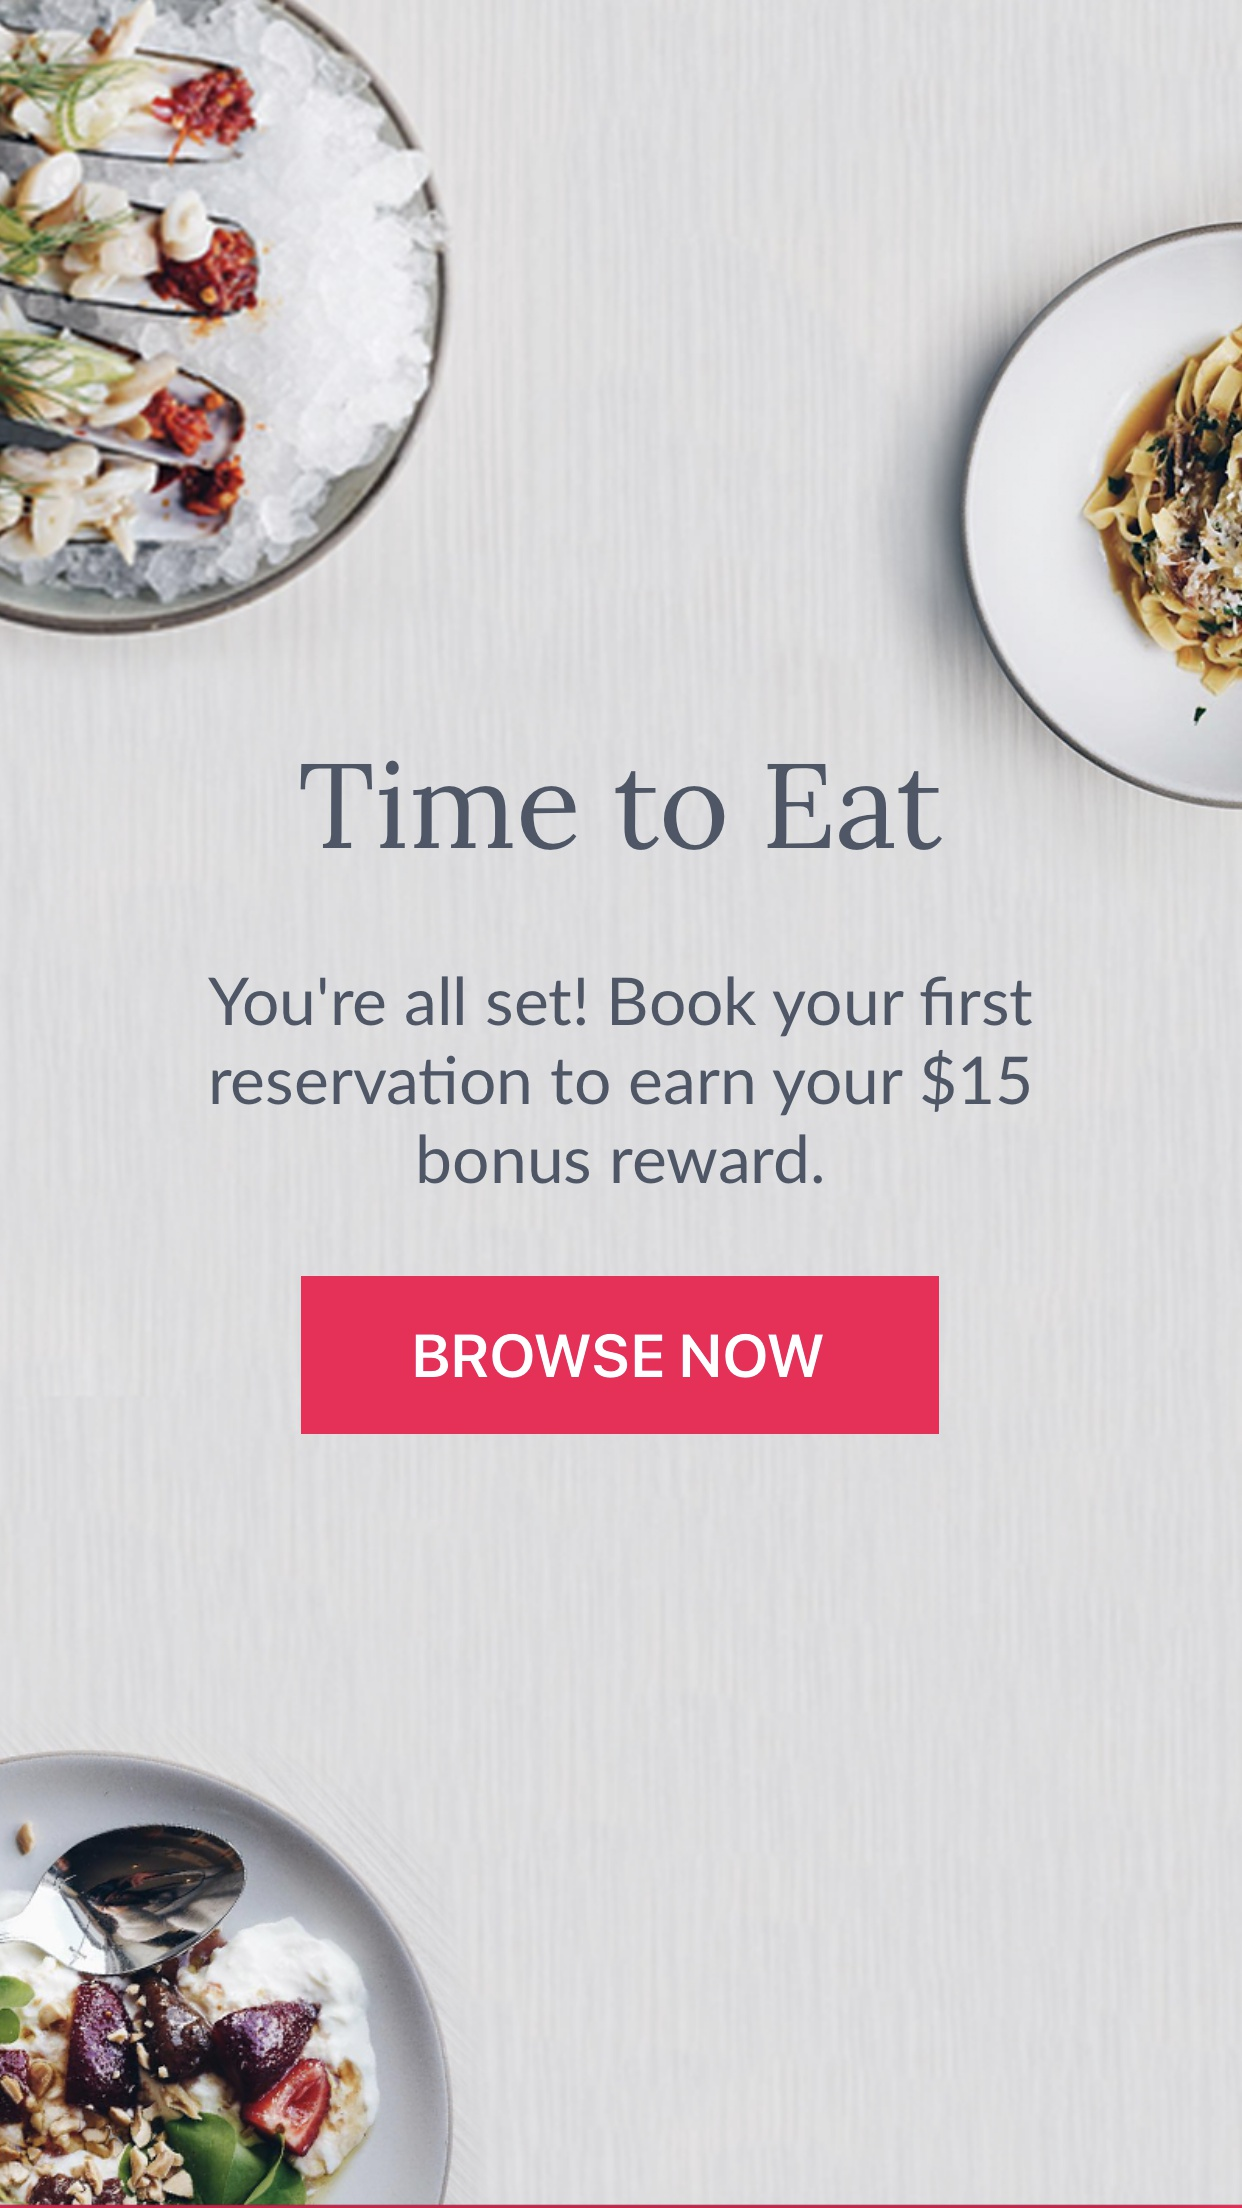BackgroundImage: (2, 2, 1242, 2208)
Image: (2, 2, 453, 638), (2, 1747, 455, 2208), (955, 221, 1242, 811)
Text: (208, 975, 1033, 1184), (300, 760, 943, 852)
TextButton: (300, 1275, 940, 1435)
